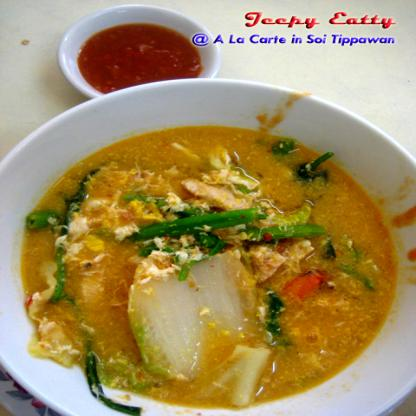Suki: (0, 108, 387, 416)
